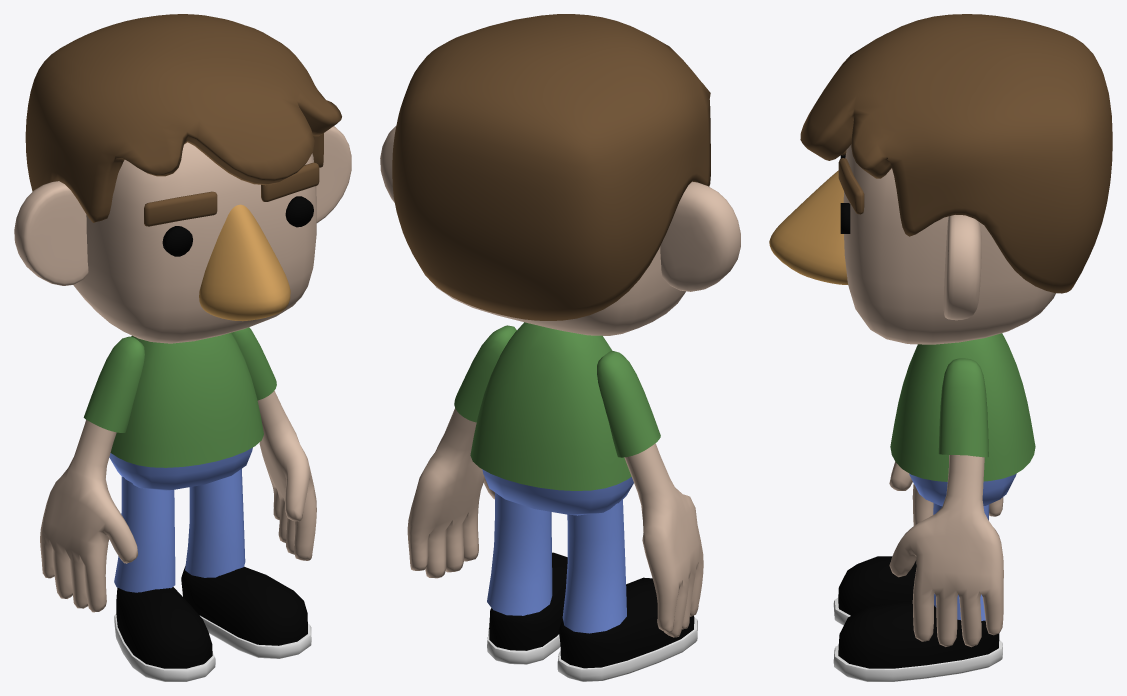
The model's file is avatar.glb.
3 views of the same model, side by side, from view 1: azimuth 30°, elevation 25°; view 2: azimuth 150°, elevation 25°; view 3: azimuth 270°, elevation 25° (orthographic). The views are drawn at different scales.
Visible parts, largest first — view 1: Hair-Parted, Head, Arms-Down, Shoes, Body, Pants, Nose, Sleeves-Down, Eyebrows, PantsTop, Eyes; view 2: Hair-Parted, Body, Arms-Down, Pants, Head, Shoes, Sleeves-Down, PantsTop; view 3: Hair-Parted, Head, Arms-Down, Body, Shoes, Nose, Sleeves-Down, PantsTop, Eyebrows.
Part boxes in pixels (box(x1,y1,x2,y2)): Hair-Parted: box(25, 14, 341, 222); Head: box(14, 126, 351, 343); Arms-Down: box(40, 390, 316, 612); Shoes: box(114, 566, 311, 681); Body: box(110, 333, 263, 467); Pants: box(114, 469, 245, 592); Nose: box(199, 204, 290, 321); Sleeves-Down: box(83, 327, 276, 432); Eyebrows: box(144, 162, 319, 226); PantsTop: box(109, 447, 252, 490); Eyes: box(162, 196, 313, 256); Hair-Parted: box(392, 14, 710, 320); Body: box(470, 322, 631, 490); Arms-Down: box(407, 408, 703, 637); Pants: box(487, 492, 626, 633); Head: box(380, 126, 740, 335); Shoes: box(487, 552, 697, 681); Sleeves-Down: box(454, 325, 660, 457); PantsTop: box(482, 469, 633, 515); Hair-Parted: box(800, 14, 1112, 293); Head: box(843, 144, 1055, 344); Arms-Down: box(889, 455, 1003, 647); Body: box(890, 333, 1035, 481); Shoes: box(833, 556, 1002, 681); Nose: box(769, 170, 848, 284); Sleeves-Down: box(938, 358, 988, 457); PantsTop: box(909, 473, 1016, 506); Eyebrows: box(838, 150, 864, 214).
Bounding box in the file's own units: 0.3994 × 0.6745 × 0.3491.
